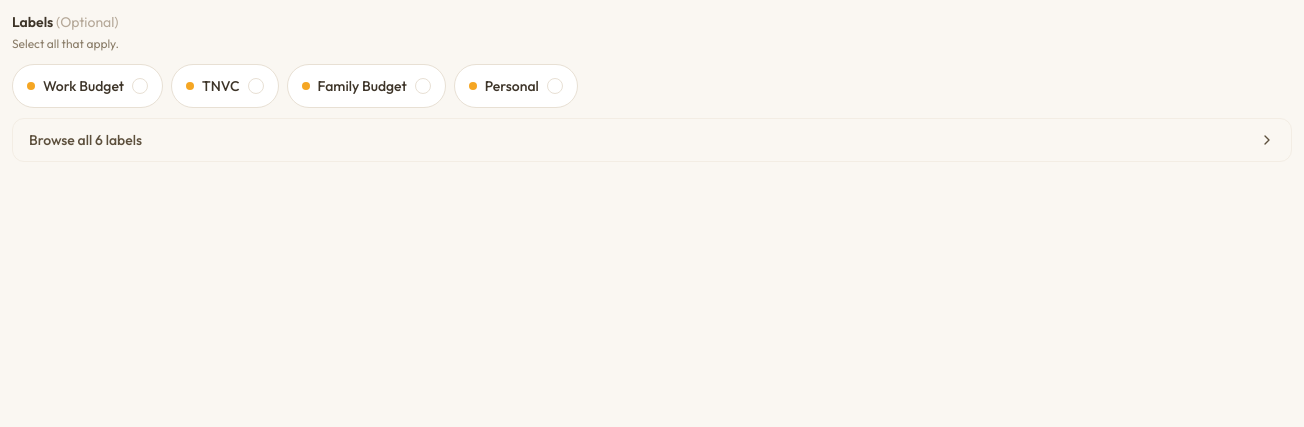
Test: LabelPicker › grouping the browse-all list › puts labels used in this category above everything else
This screenshot has width=1304, height=427.
Click the button "Browse all 6 labels" at (62, 140), box [12,118,1292,162]
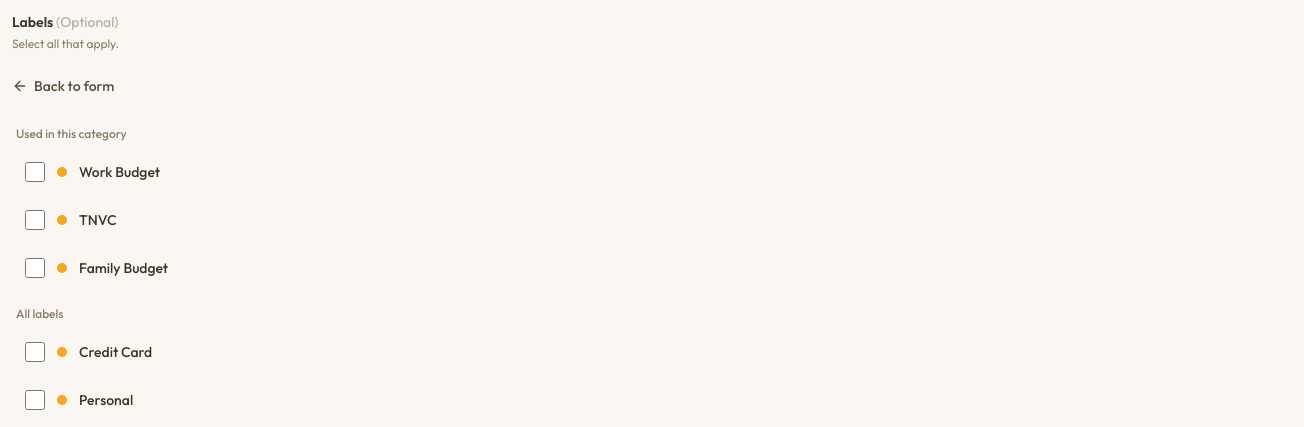
Expected: the text "Used in this category" is shown, [16,126,127,141]
Expected: the text "All labels" is shown, [16,306,64,321]
